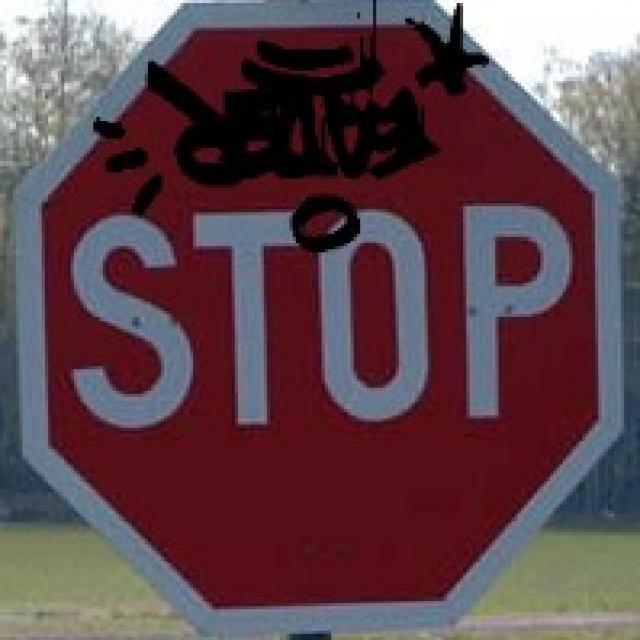Stop-Sign: (74, 41, 586, 579)
